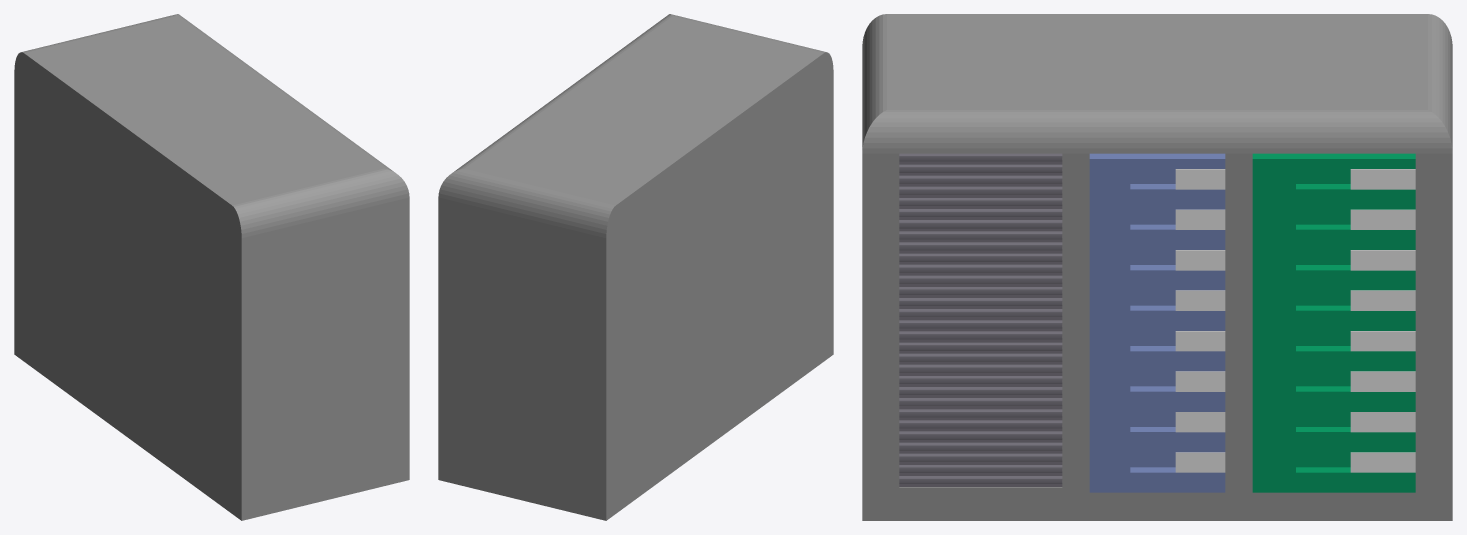
Rendered from placard.fbx.
The picture shows the model from 3 angles, left to right: view 1: azimuth 30°, elevation 25°; view 2: azimuth 150°, elevation 25°; view 3: azimuth 270°, elevation 25°; orthographic projection. The views are drawn at different scales.
Parts seen in each view (by area): view 1: placard; view 2: placard; view 3: placard, porte3, porte2, porte1_haut, porte1_bas, porte1_milieu, etiquette3, etiquette2.
Part boxes in pixels (x1,y1,x2,y2): placard: (14,14,409,520); placard: (438,14,833,520); placard: (862,14,1452,520); porte3: (1252,153,1415,492); porte2: (1089,153,1225,492); porte1_haut: (899,153,1062,280); porte1_bas: (899,367,1062,486); porte1_milieu: (899,280,1062,367); etiquette3: (1350,169,1415,472); etiquette2: (1175,169,1225,472).
Bounding box in the file's own units: 430 × 719 × 960.
